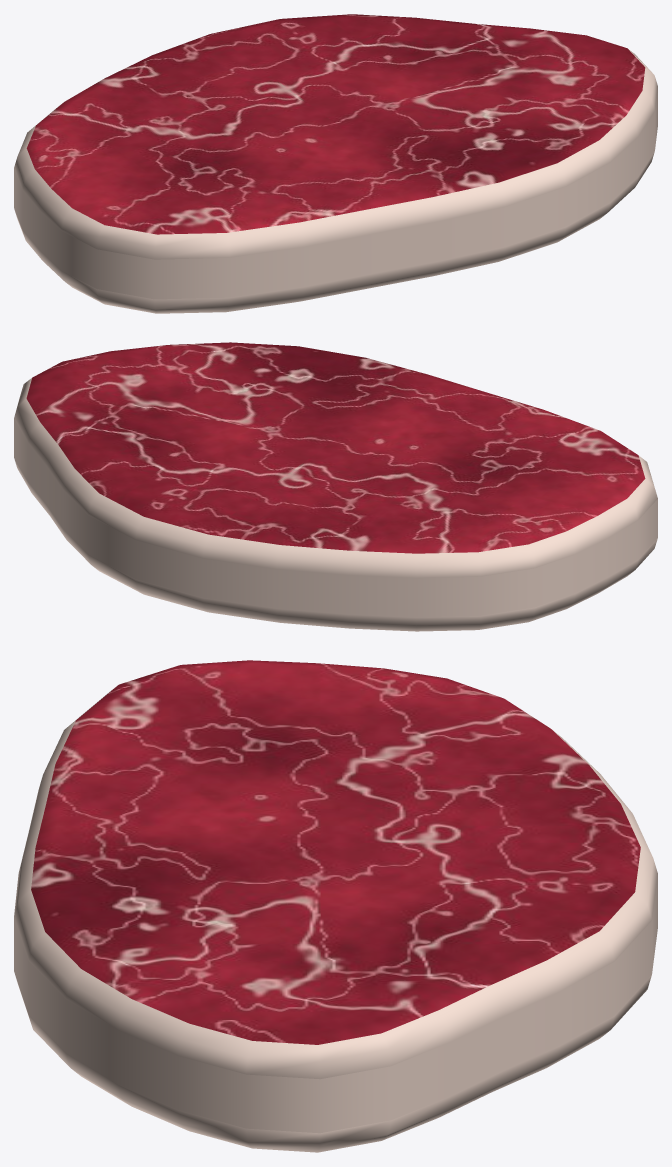
File: SteakRaw.glb
3 views of the same model, one above another, from view 1: azimuth 30°, elevation 25°; view 2: azimuth 150°, elevation 25°; view 3: azimuth 270°, elevation 25° (orthographic). The views are drawn at different scales.
Parts seen in each view (by area): view 1: SteakRaw_Body; view 2: SteakRaw_Body; view 3: SteakRaw_Body.
Boxes of the visible parts, x1,y1,x2,y2 form: SteakRaw_Body: [14, 14, 657, 313]; SteakRaw_Body: [14, 342, 657, 631]; SteakRaw_Body: [14, 660, 657, 1152].
Size of the model in its own units: 0.2217 by 0.03 by 0.1511.
2 materials, 1 textured.
